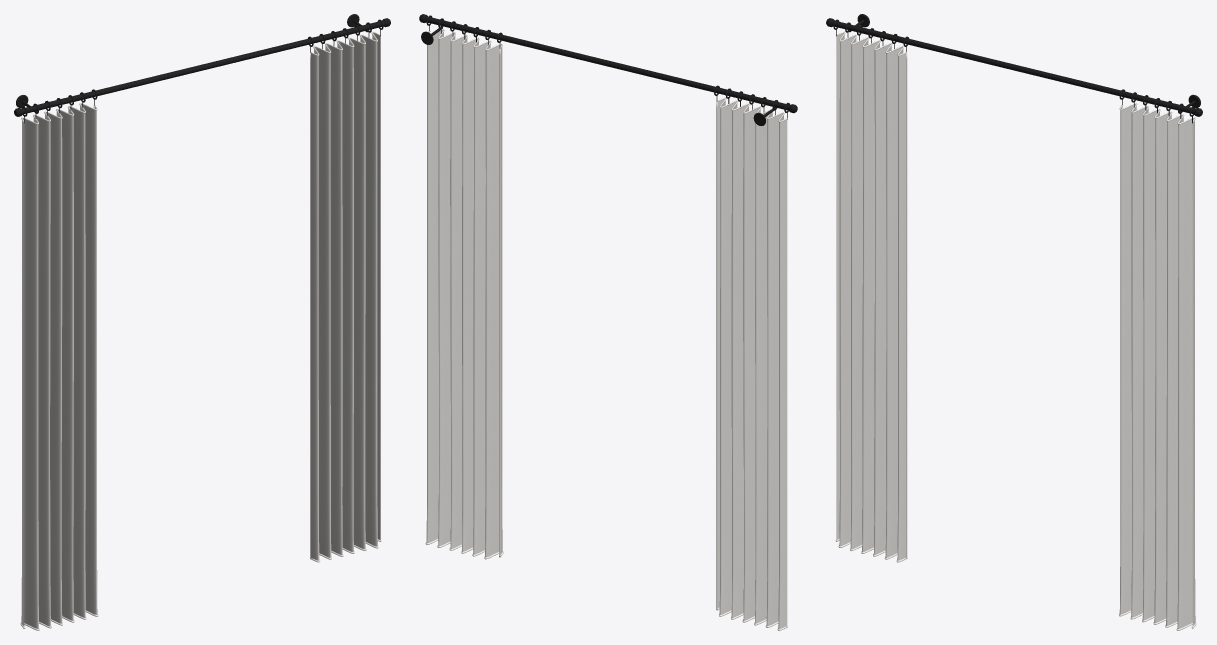
File: cortina_onda_180_c40.glb
3 renders of one model, left to right at view 1: azimuth 30°, elevation 25°; view 2: azimuth 150°, elevation 25°; view 3: azimuth 330°, elevation 25°, orthographic.
Visible parts, largest first — view 1: cortina_onda_180_c40; view 2: cortina_onda_180_c40; view 3: cortina_onda_180_c40.
Boxes of the visible parts, x1,y1,x2,y2 form: cortina_onda_180_c40: [14, 14, 390, 630]; cortina_onda_180_c40: [419, 14, 797, 630]; cortina_onda_180_c40: [826, 14, 1202, 630].
Size of the model in its own units: 1.8 by 2.39 by 0.1789.
Materials: 2 (1 with a texture image).
